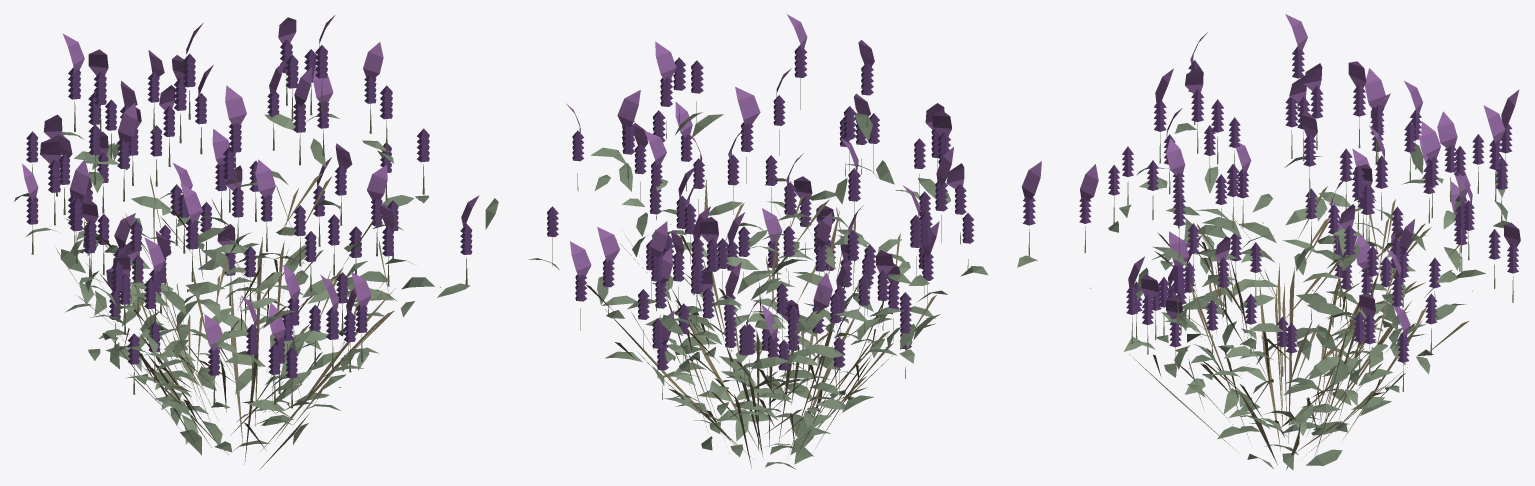
The model's file is Lavande_Dense_LOD2.fbx.
The picture shows the model from 3 angles, left to right: view 1: azimuth 30°, elevation 25°; view 2: azimuth 150°, elevation 25°; view 3: azimuth 270°, elevation 25°; orthographic projection.
Parts seen in each view (by area): view 1: Lavande_Dense_LOD2; view 2: Lavande_Dense_LOD2; view 3: Lavande_Dense_LOD2.
Boxes of the visible parts, x1,y1,x2,y2 form: Lavande_Dense_LOD2: (14,15,498,469); Lavande_Dense_LOD2: (528,14,987,469); Lavande_Dense_LOD2: (1017,14,1520,470).
Size of the model in its own units: 63.92 by 61.7 by 69.26.
